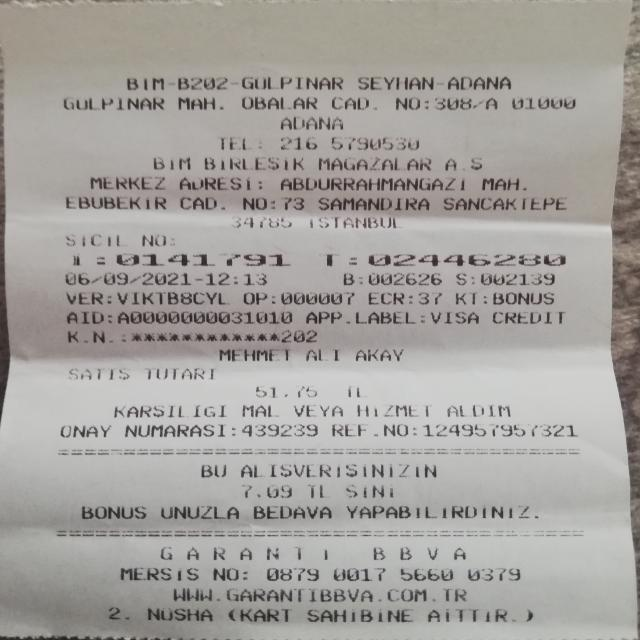text: (173, 586, 465, 604), (331, 421, 577, 438), (368, 250, 564, 269), (156, 542, 334, 562), (240, 461, 435, 479), (111, 250, 290, 269), (281, 174, 464, 192), (346, 502, 529, 520), (117, 310, 296, 324), (318, 153, 430, 173), (444, 194, 566, 212), (114, 401, 226, 420), (368, 542, 470, 562), (242, 72, 343, 92), (318, 194, 429, 212), (306, 307, 414, 325), (204, 153, 302, 172), (63, 94, 164, 112), (65, 193, 165, 211), (123, 421, 227, 438), (116, 290, 225, 306), (308, 607, 414, 623), (428, 606, 518, 624), (331, 134, 418, 152), (308, 214, 401, 230), (252, 503, 330, 522), (357, 72, 431, 92), (138, 272, 230, 288), (161, 503, 238, 522), (369, 268, 441, 288), (119, 565, 198, 583), (357, 401, 429, 420), (242, 94, 316, 112), (90, 174, 164, 192), (240, 421, 318, 438), (492, 307, 564, 325), (81, 503, 146, 522), (480, 270, 557, 286), (447, 401, 510, 420), (450, 72, 508, 91), (238, 604, 291, 624), (219, 347, 289, 362), (146, 366, 213, 381), (178, 73, 228, 93), (281, 114, 342, 130), (145, 607, 214, 621), (492, 290, 552, 306), (254, 384, 318, 399), (400, 565, 453, 583), (467, 565, 519, 583), (293, 401, 342, 420), (64, 232, 126, 247), (232, 214, 290, 230), (62, 272, 128, 286), (267, 565, 318, 583), (511, 95, 576, 109), (334, 565, 384, 583), (69, 366, 128, 381), (242, 482, 291, 500), (341, 482, 395, 498), (60, 421, 110, 438), (431, 307, 478, 325), (355, 347, 403, 362), (153, 153, 190, 172), (179, 193, 216, 212), (126, 73, 160, 93), (178, 94, 215, 112), (444, 154, 481, 172), (482, 174, 519, 192), (331, 94, 367, 112), (280, 134, 316, 152), (67, 307, 103, 325), (242, 401, 276, 420), (436, 94, 470, 112), (238, 328, 278, 343), (67, 328, 104, 344), (131, 329, 168, 344), (66, 290, 100, 306), (368, 290, 401, 306), (281, 328, 316, 343), (199, 461, 226, 479), (306, 347, 338, 362), (220, 134, 246, 152), (213, 565, 238, 583), (243, 194, 266, 212), (395, 94, 417, 112), (243, 290, 266, 306), (248, 268, 266, 288), (141, 232, 164, 247), (106, 606, 130, 620), (284, 194, 302, 212), (420, 290, 440, 306), (344, 384, 366, 398), (455, 290, 474, 306), (308, 482, 324, 500), (343, 268, 354, 288), (456, 268, 466, 288), (73, 250, 82, 269), (170, 73, 178, 93), (485, 98, 497, 111), (230, 421, 239, 438), (348, 250, 356, 269), (234, 73, 241, 93), (106, 290, 114, 306), (269, 290, 277, 306), (438, 72, 444, 92), (232, 268, 238, 288), (326, 250, 332, 269), (370, 94, 376, 112), (426, 94, 432, 112), (255, 174, 261, 192), (108, 307, 114, 325), (422, 307, 428, 325), (409, 290, 415, 306), (100, 250, 105, 269), (358, 268, 362, 288), (270, 194, 274, 212), (243, 565, 247, 583), (533, 510, 540, 520), (204, 329, 209, 342), (219, 94, 222, 112), (523, 174, 526, 192), (472, 268, 474, 288), (222, 194, 224, 212), (483, 290, 485, 306), (259, 134, 260, 152)
